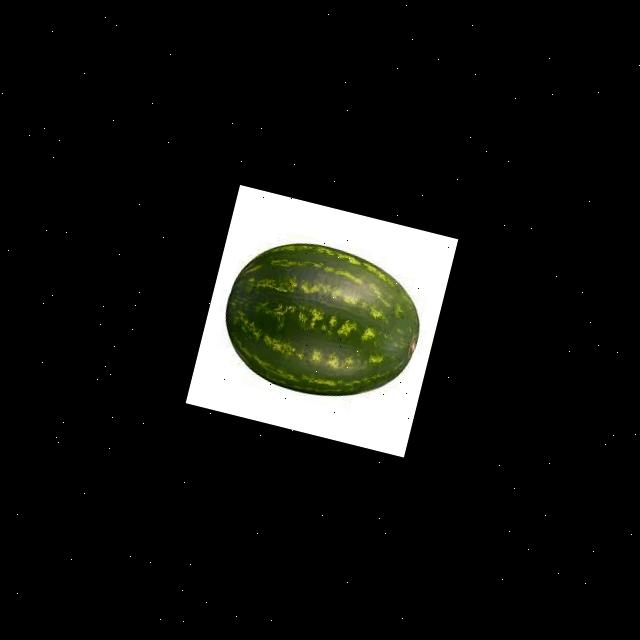watermelon: (206, 223, 434, 420)
